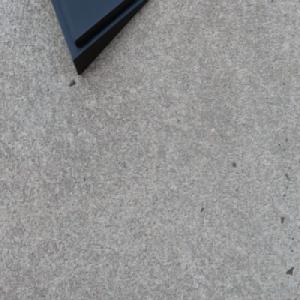PlasticPart: (48, 0, 153, 80)
